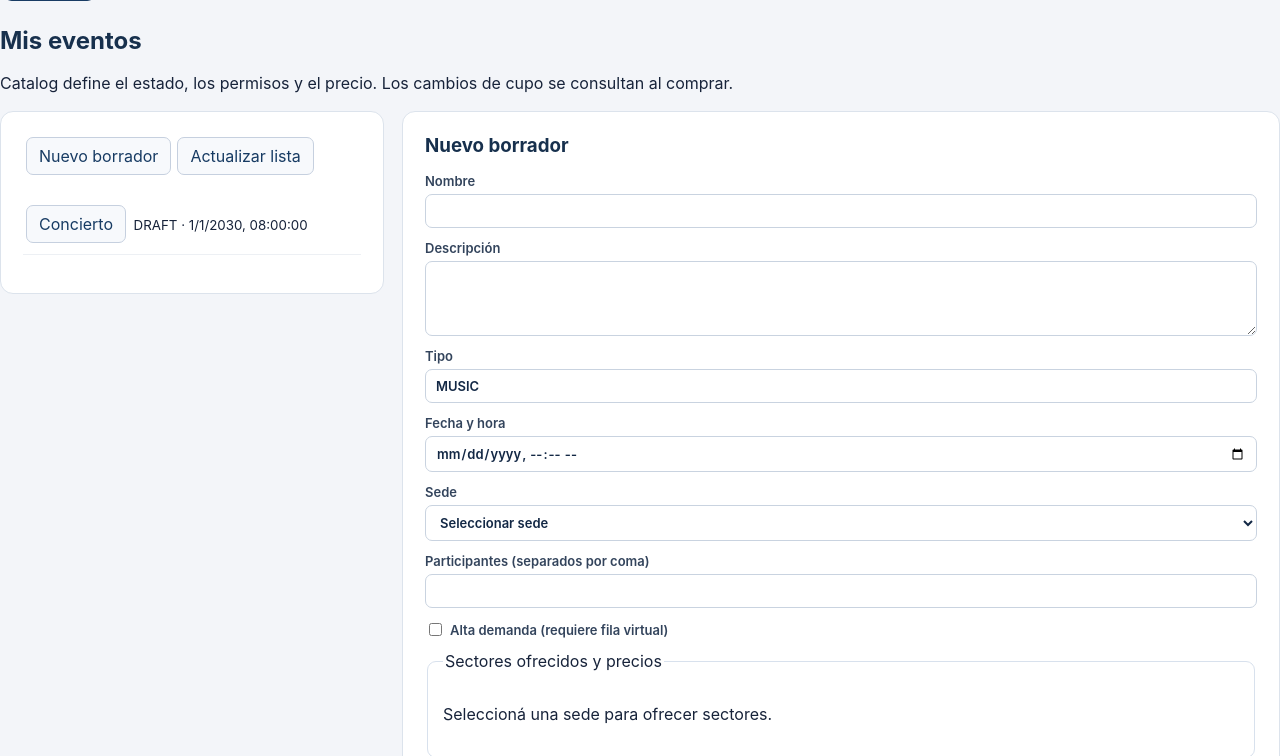
Test: operaciones por Gateway › edita un borrador con ruta separada para offerings
Click the button "Concierto". click: (76, 224)
box: [26,205,126,243]
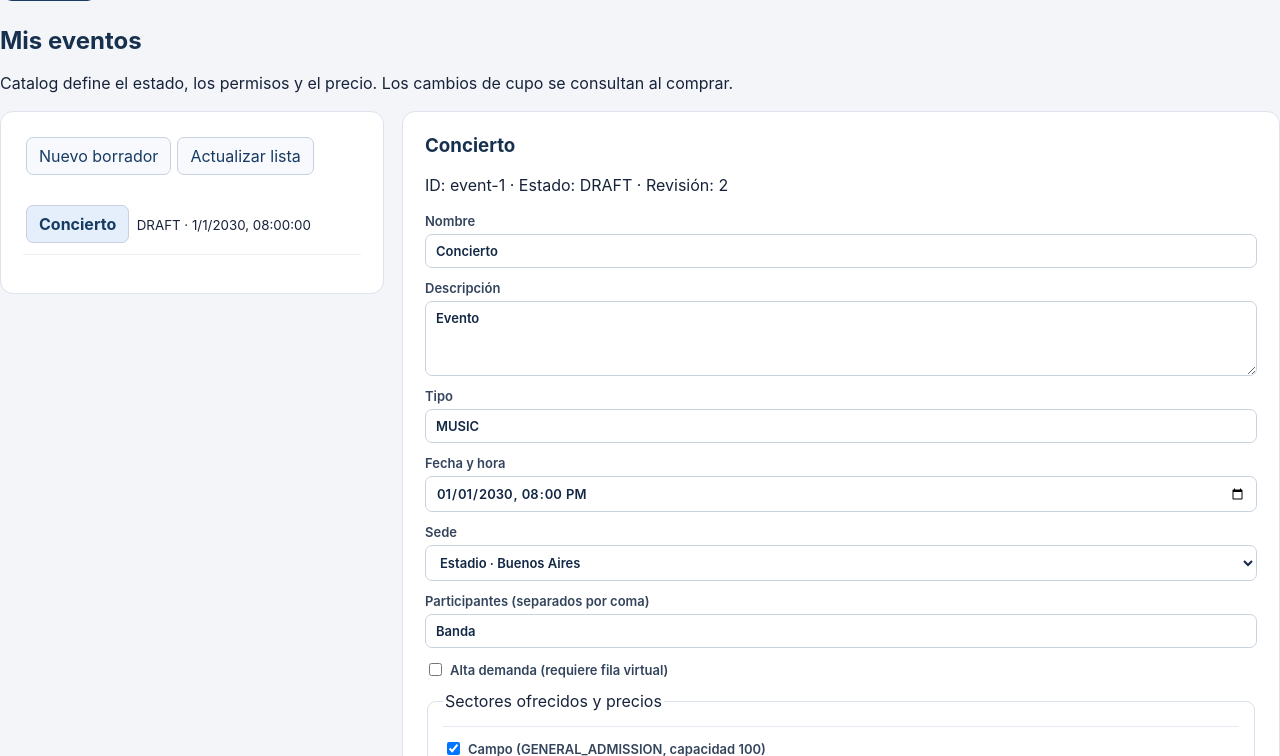
Replace the text in the text box labelled "Descripción" with "Descripción editada". click: (841, 338)
box: [425,301,1257,376]
(page scrolled)
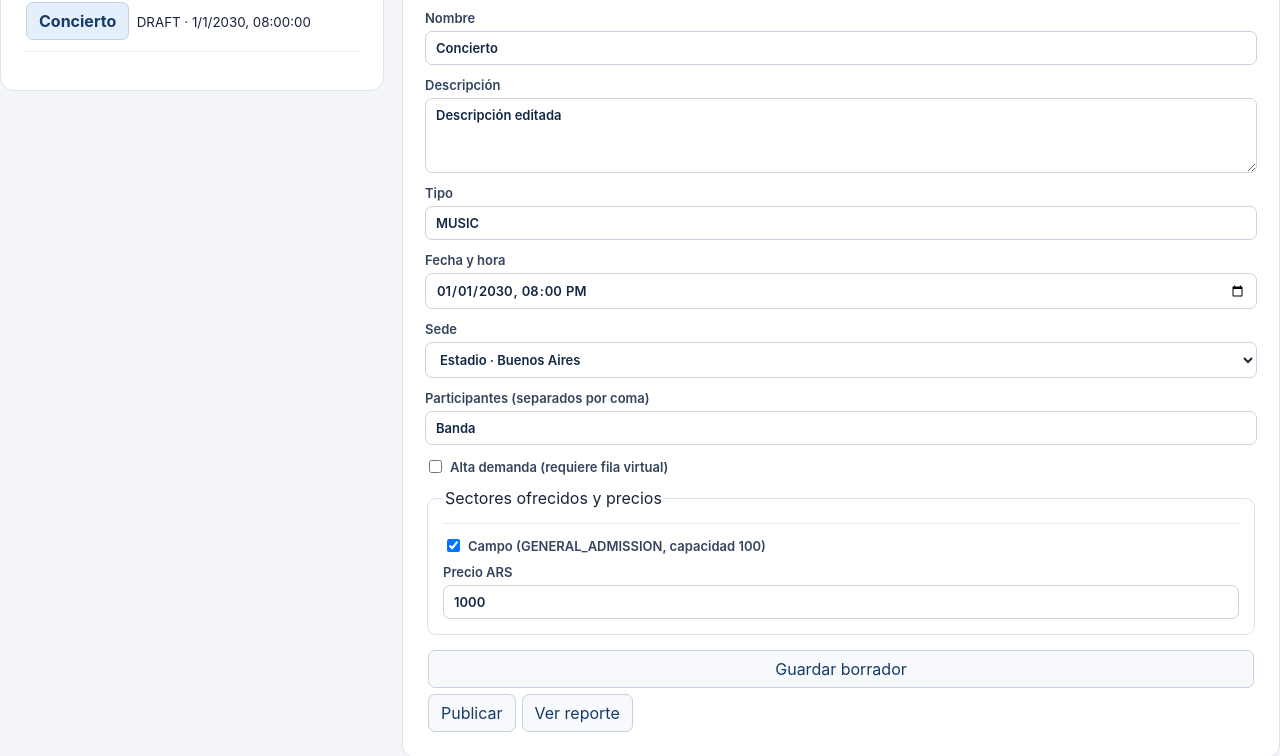
Click the button "Guardar borrador". click: (841, 669)
box: [428,650,1254,688]
(page scrolled)
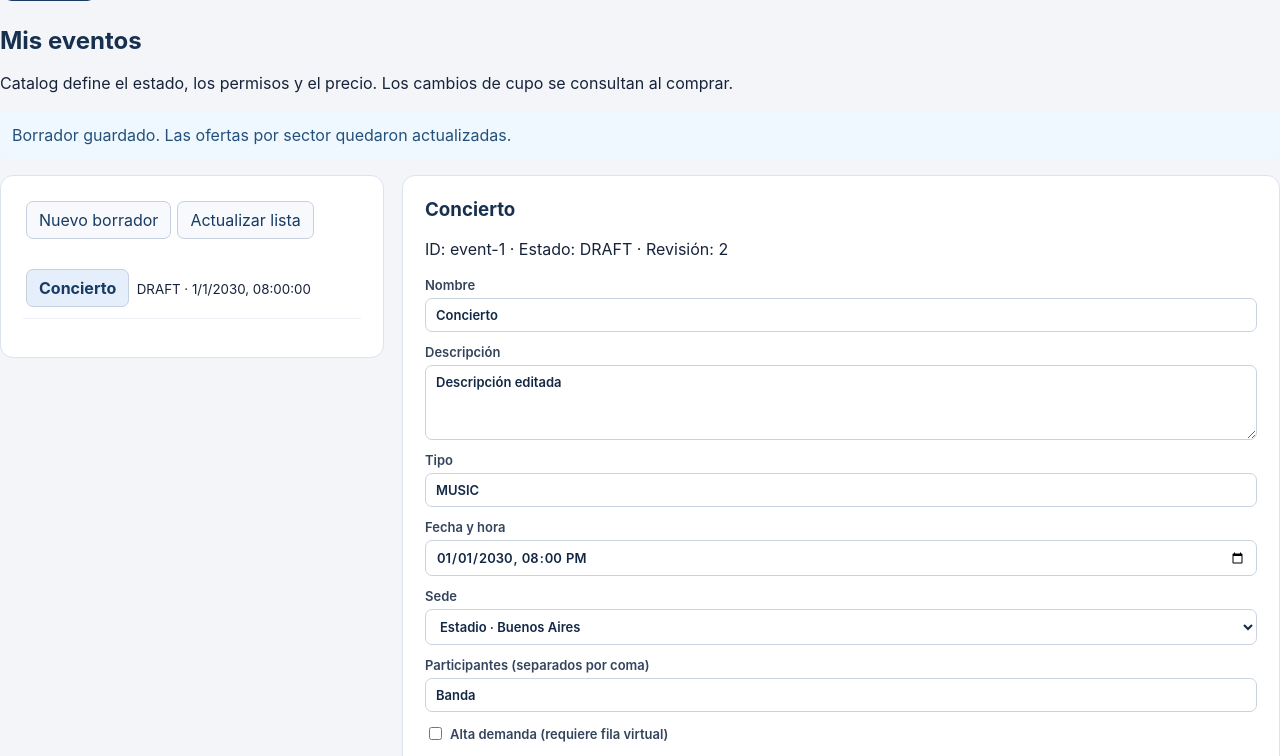
Expected: the text "Borrador guardado. Las ofertas por sector quedaron actualizadas." is shown, [0,111,1279,159]
